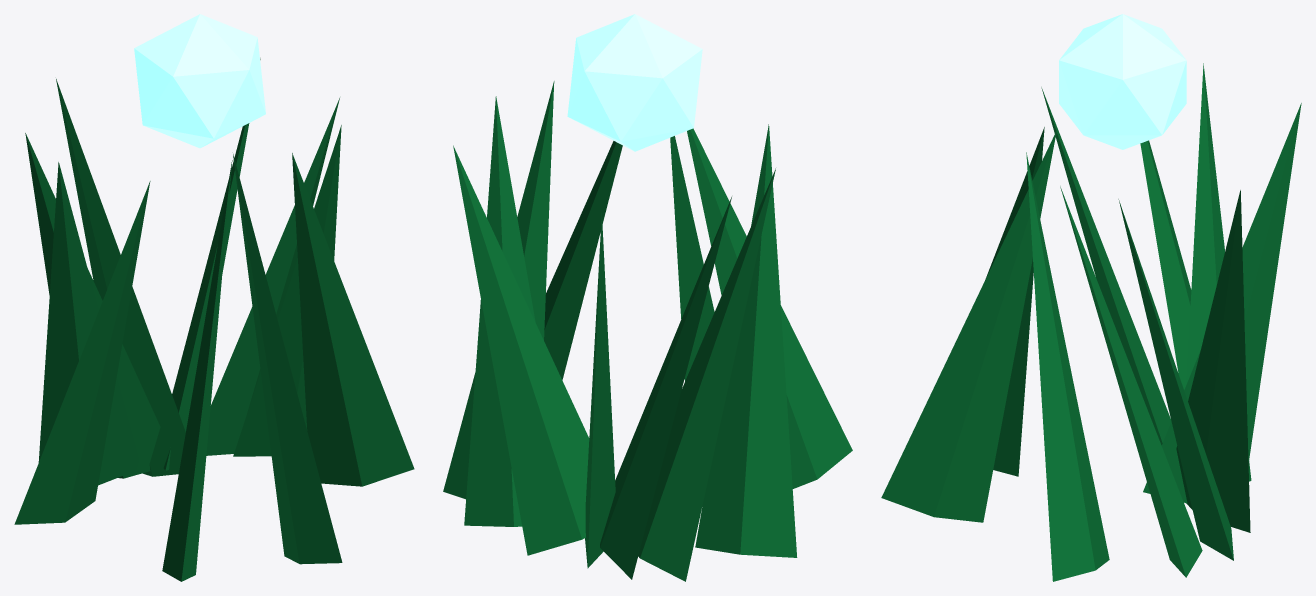
The model's file is Prop_OR_Herb_29.glb.
3 views of the same model, side by side, from view 1: azimuth 30°, elevation 25°; view 2: azimuth 150°, elevation 25°; view 3: azimuth 270°, elevation 25° (orthographic). The views are drawn at different scales.
Visible parts, largest first — view 1: Prop_OR_Herb_29; view 2: Prop_OR_Herb_29; view 3: Prop_OR_Herb_29.
Part boxes in pixels (x1=…): Prop_OR_Herb_29: x1=14, y1=14, x2=414, y2=581; Prop_OR_Herb_29: x1=443, y1=14, x2=852, y2=581; Prop_OR_Herb_29: x1=881, y1=14, x2=1301, y2=581.
Size of the model in its own units: 0.4887 by 0.6576 by 0.5.
